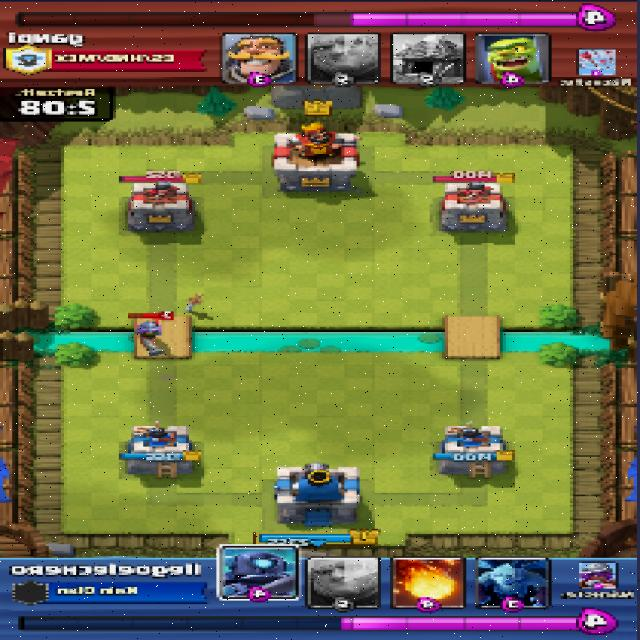Enemy-Musketeer: (132, 319, 169, 355)
